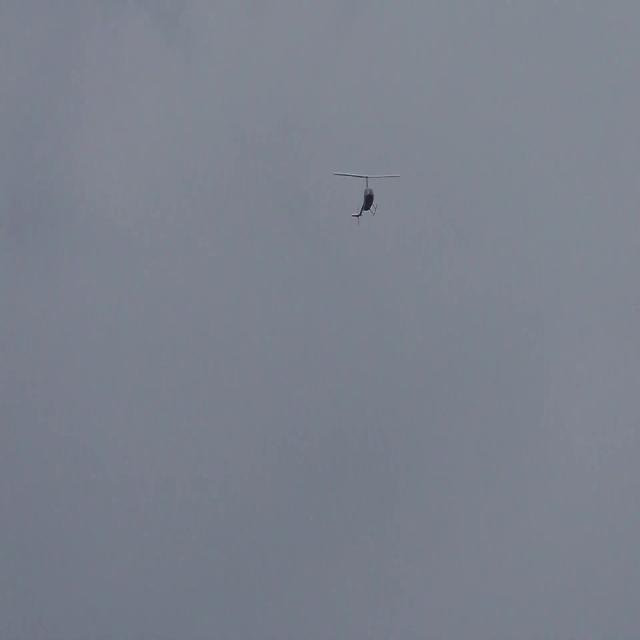CIV_HELO: (352, 176, 378, 226)
